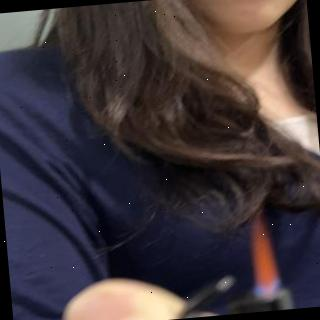fire: (245, 208, 286, 304)
